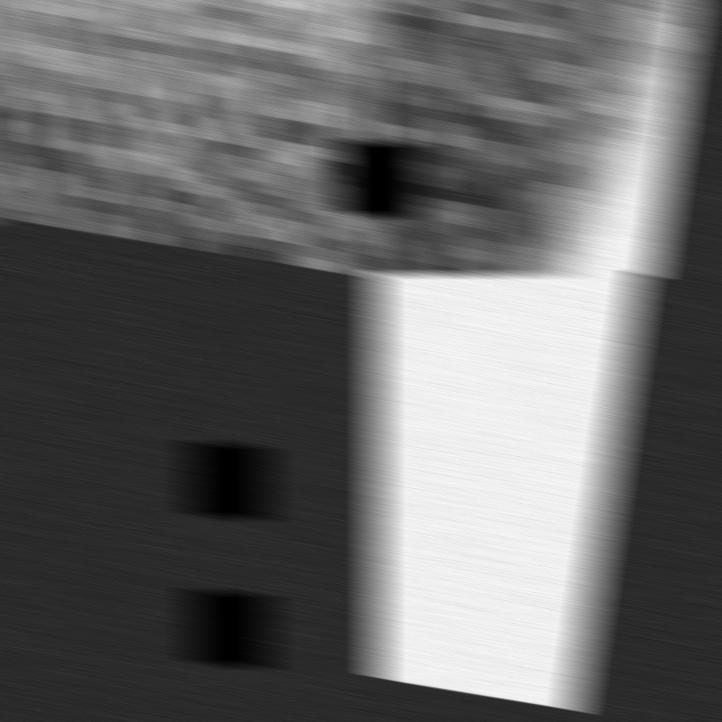AirbagV2: (368, 273, 665, 710), (0, 0, 382, 275), (368, 0, 722, 275)
